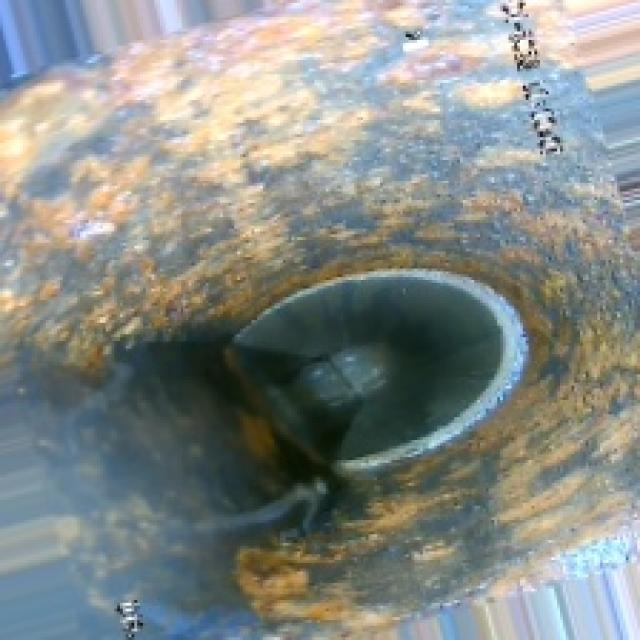encrustation: (74, 157, 623, 594)
